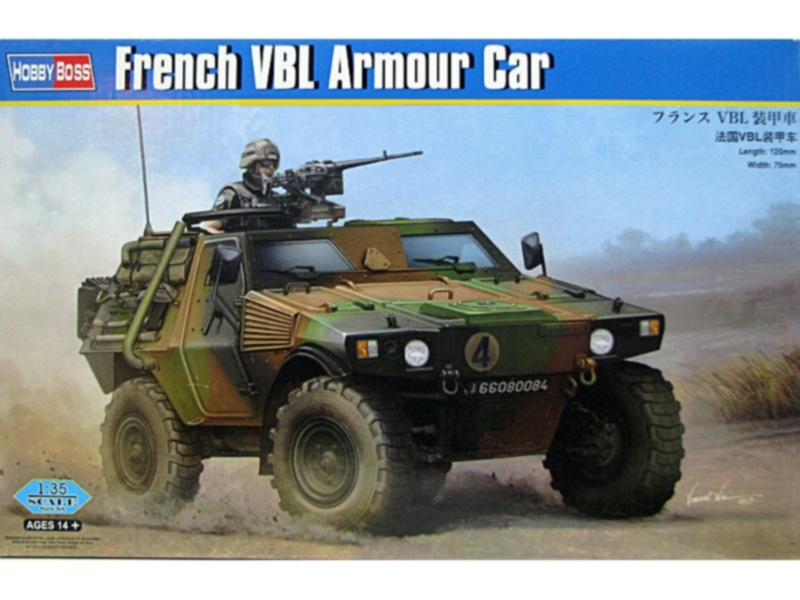license_plate: (478, 378, 551, 395)
